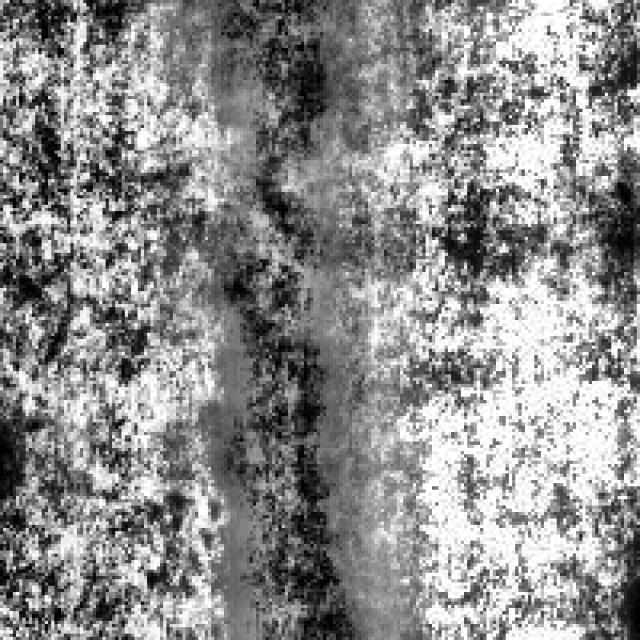Scratches: (211, 237, 346, 637), (186, 0, 355, 163)
